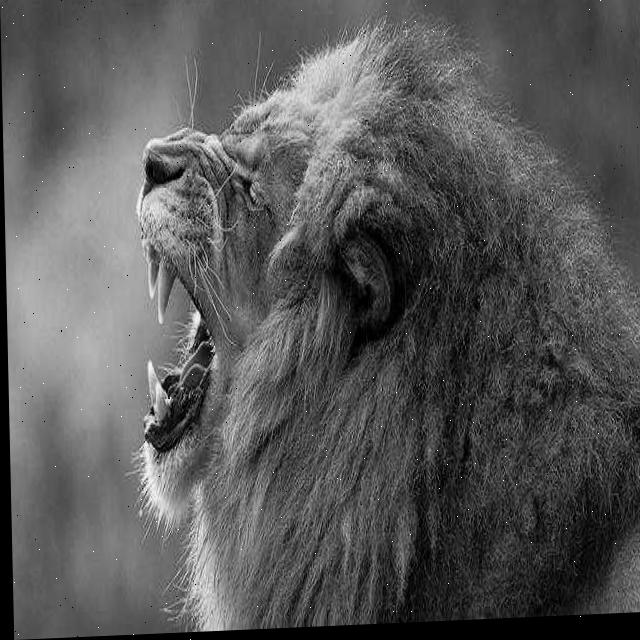Lion: (98, 65, 625, 621)
